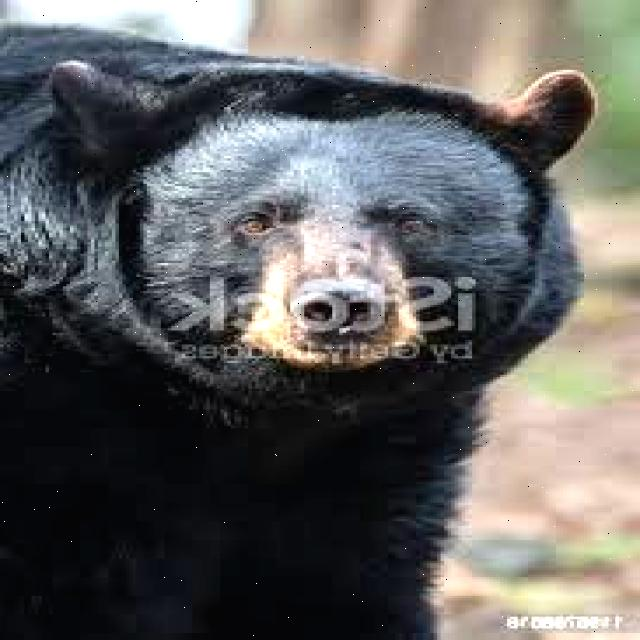bear: (0, 28, 598, 606)
